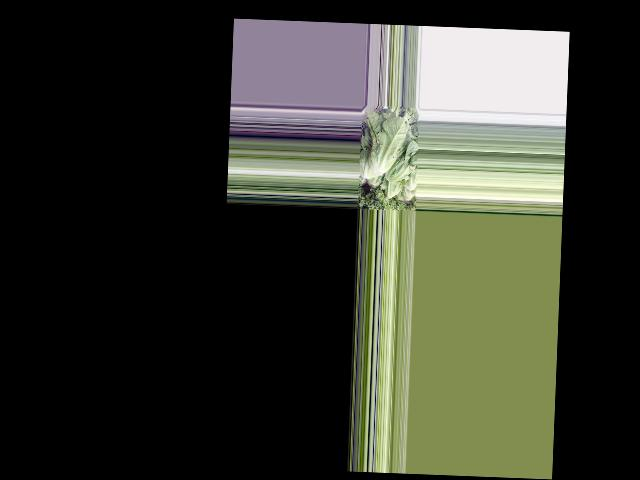lettuce: (386, 137, 416, 184)
